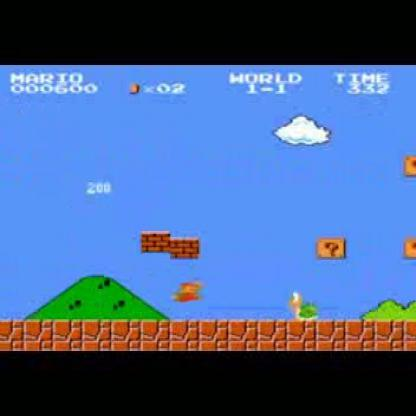Tortuga: (286, 290, 318, 324)
